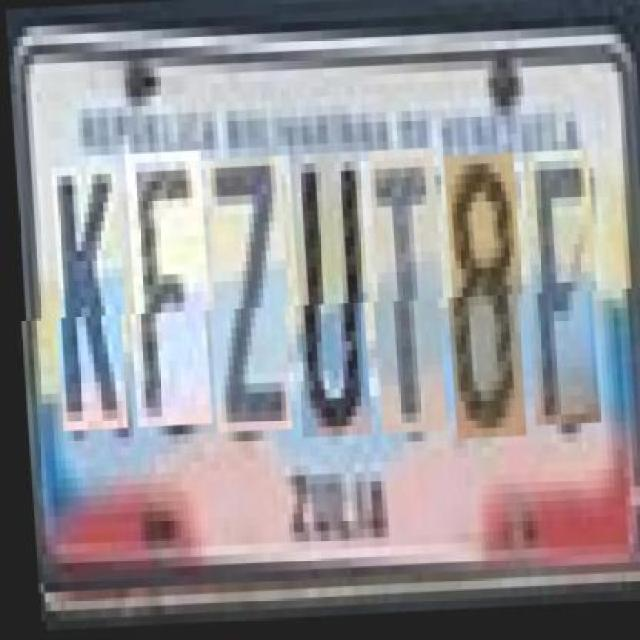8: (442, 159, 526, 443)
f: (122, 153, 212, 430), (520, 156, 600, 432)
k: (48, 164, 127, 430)
t: (366, 152, 446, 437)
u: (287, 155, 371, 440)
z: (202, 158, 290, 434)
